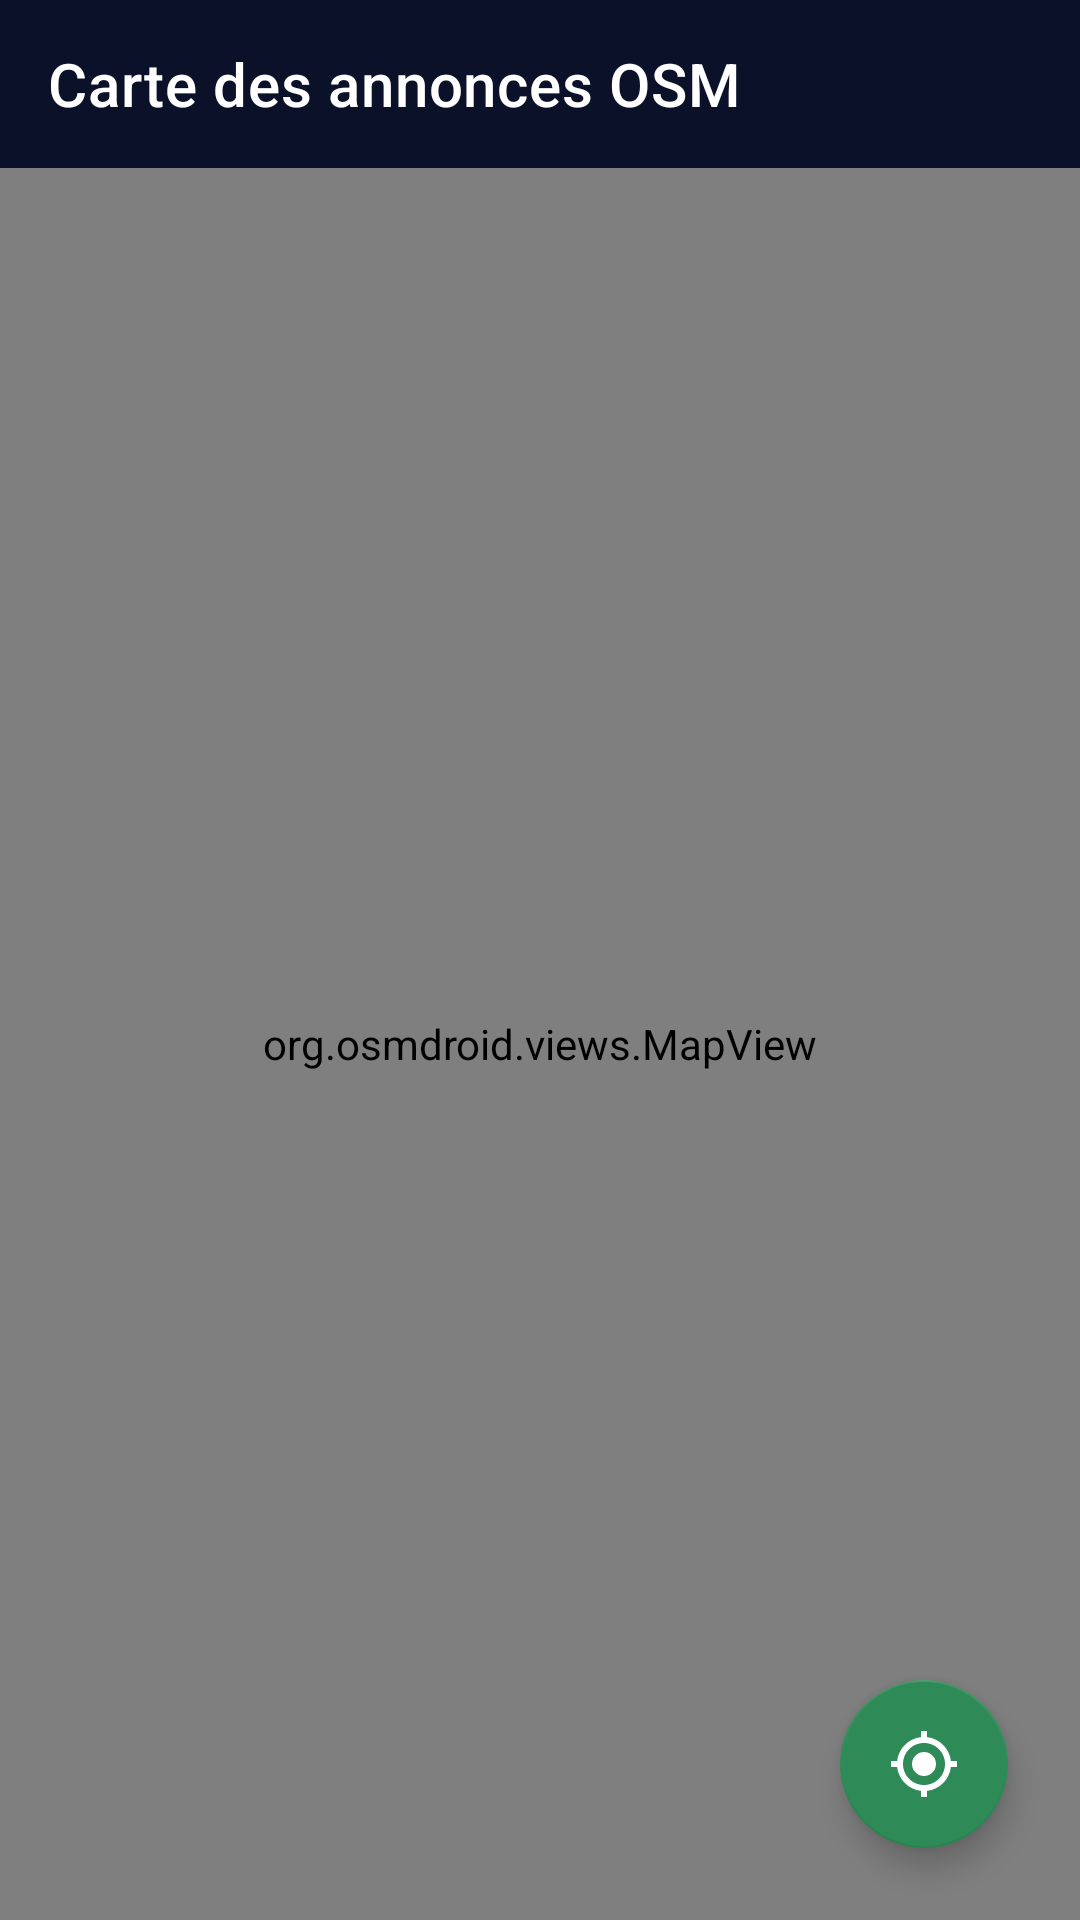

Screen size 1080px x 1920px. Icon name, then its box in pixels as rect(x1, y1, x2, y2):
location: rect(840, 1680, 1008, 1848)
